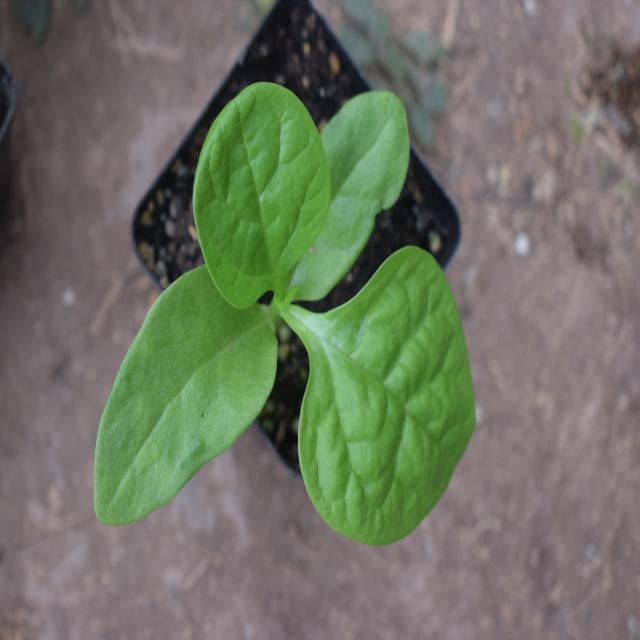Ceylon spinach: (102, 84, 480, 556)
